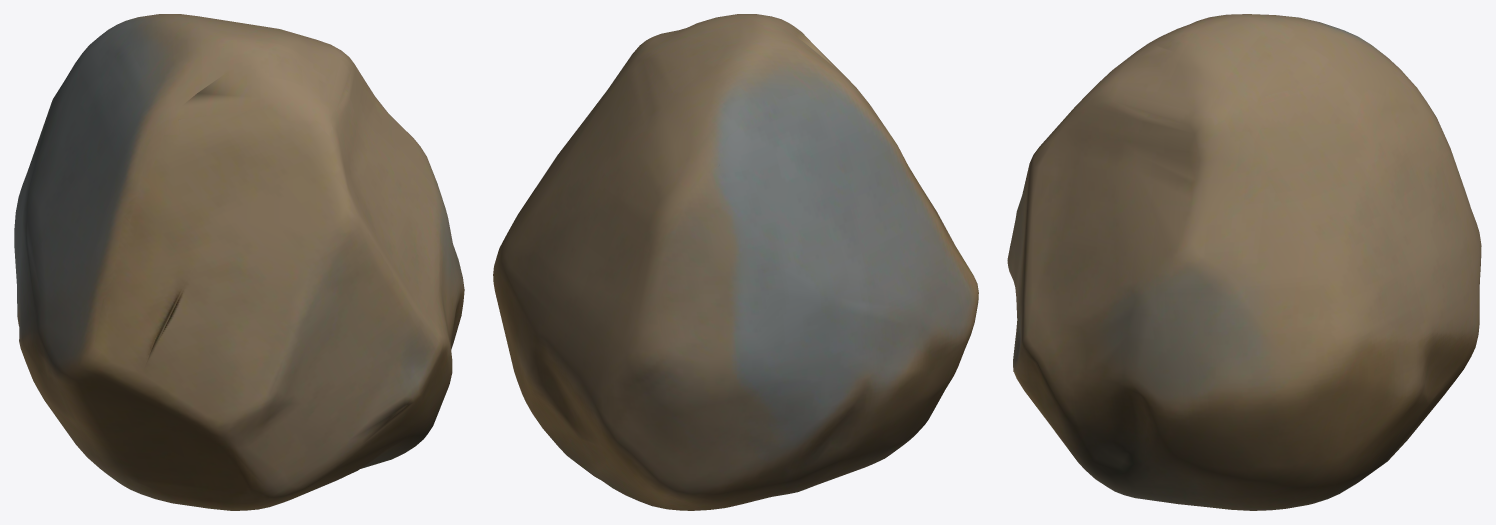
Rendered from large_rock_051293c4_v1.glb.
3 renders of one model, left to right at view 1: azimuth 30°, elevation 25°; view 2: azimuth 150°, elevation 25°; view 3: azimuth 270°, elevation 25°, orthographic.
Parts seen in each view (by area): view 1: material; view 2: material; view 3: material.
Part boxes in pixels (x1=…): material: x1=14, y1=14, x2=464, y2=510; material: x1=493, y1=14, x2=978, y2=510; material: x1=1007, y1=14, x2=1481, y2=510.
Bounding box in the file's own units: 1.9 × 1.83 × 1.88.
Materials: 1 (1 with a texture image).
